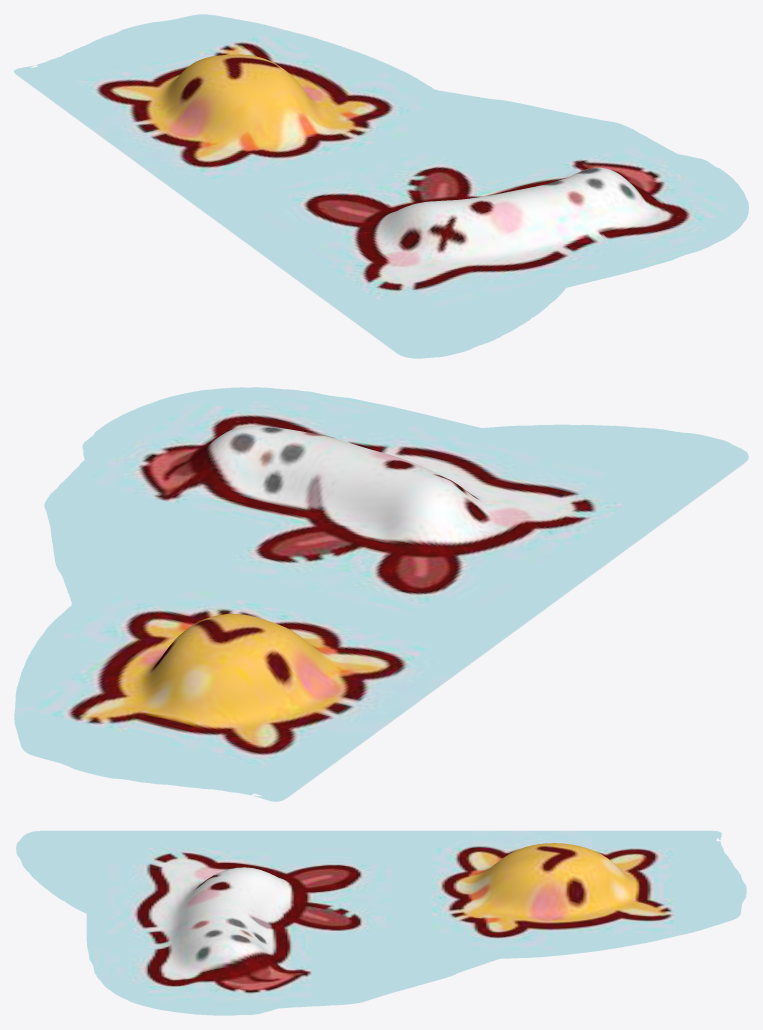
The model's file is 泡泡贴纸15.fbx.
3 views of the same model, one above another, from view 1: azimuth 30°, elevation 25°; view 2: azimuth 150°, elevation 25°; view 3: azimuth 270°, elevation 25° (orthographic). The views are drawn at different scales.
Visible parts, largest first — view 1: 平面.001; view 2: 平面.001; view 3: 平面.001.
Part boxes in pixels (box(x1,y1,x2,y2)): 平面.001: box(14, 14, 748, 358); 平面.001: box(14, 387, 748, 801); 平面.001: box(16, 830, 746, 1015).
Bounding box in the file's own units: 175 × 16.1 × 293.
